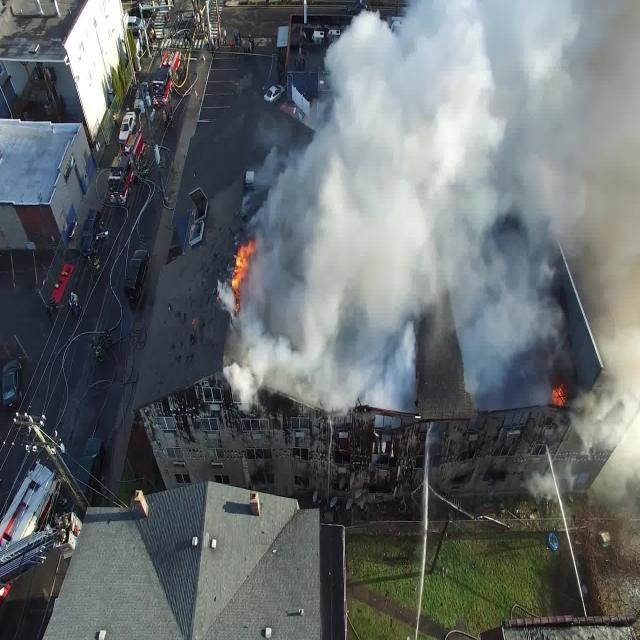Fire: (222, 215, 268, 321), (547, 377, 575, 415)
Smoke: (214, 0, 608, 411)
